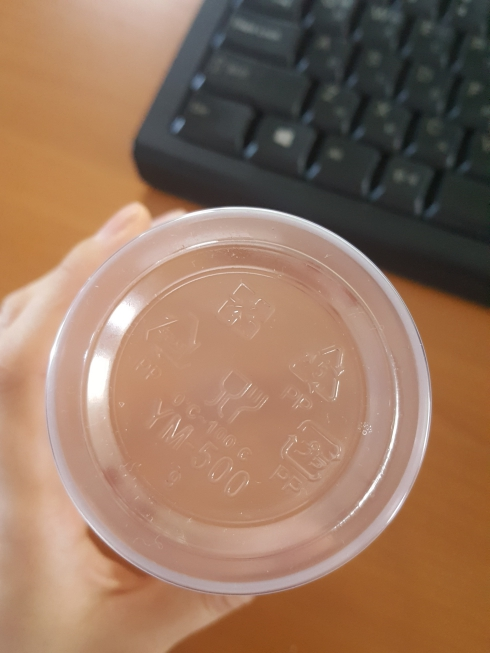recycle: (281, 320, 347, 417)
